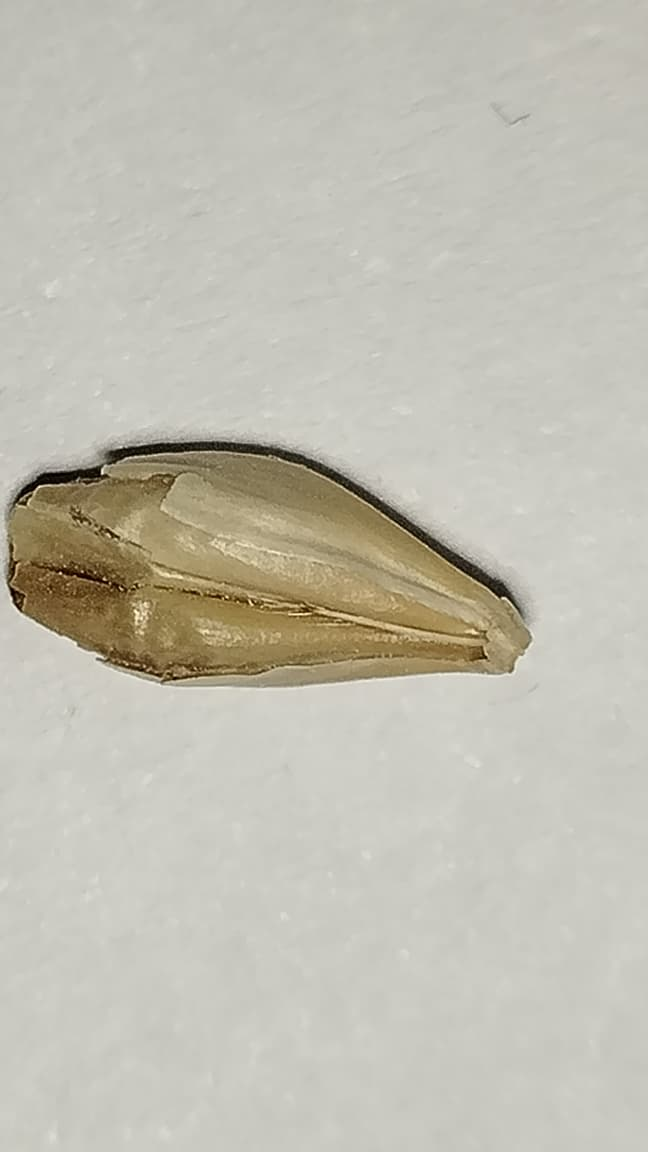damage: (10, 451, 529, 684)
staindamage: (31, 540, 149, 609)
